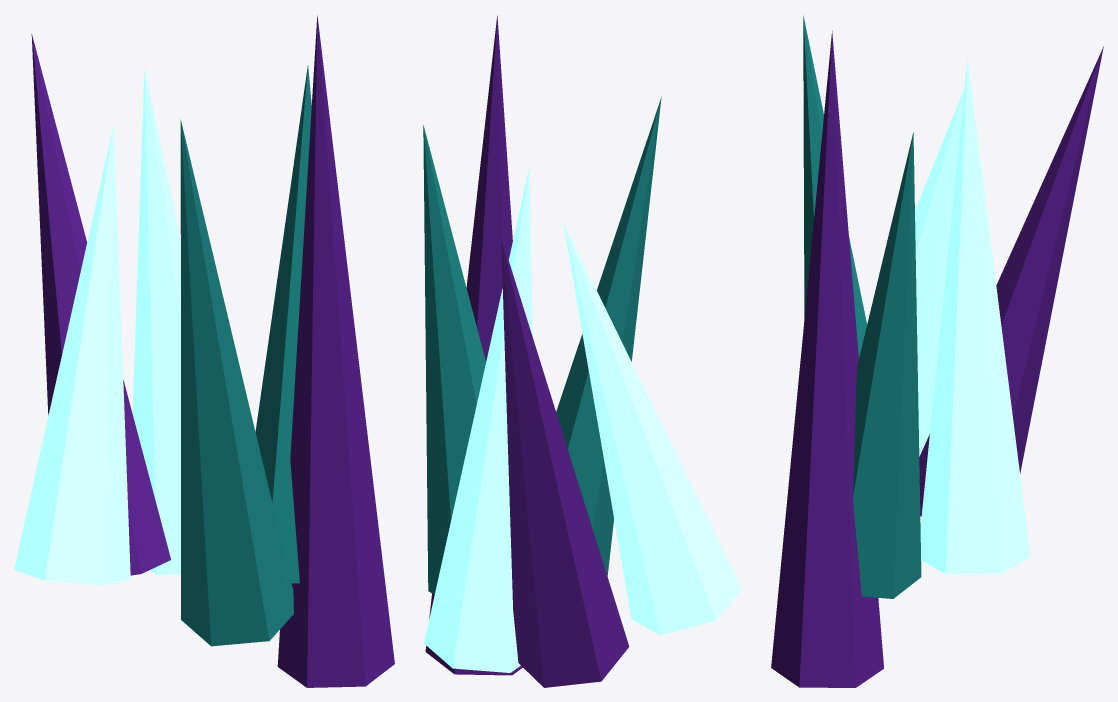
Rendered from Prop_OR_Crystal_03.glb.
3 views of the same model, side by side, from view 1: azimuth 30°, elevation 25°; view 2: azimuth 150°, elevation 25°; view 3: azimuth 270°, elevation 25° (orthographic). The views are drawn at different scales.
Visible parts, largest first — view 1: Prop_OR_Crystal_03; view 2: Prop_OR_Crystal_03; view 3: Prop_OR_Crystal_03.
Part boxes in pixels (x1,y1,x2,y2): Prop_OR_Crystal_03: (14, 15, 394, 687); Prop_OR_Crystal_03: (423, 15, 742, 687); Prop_OR_Crystal_03: (771, 15, 1103, 687).
Bounding box in the file's own units: 0.7953 × 1.54 × 0.7358.
